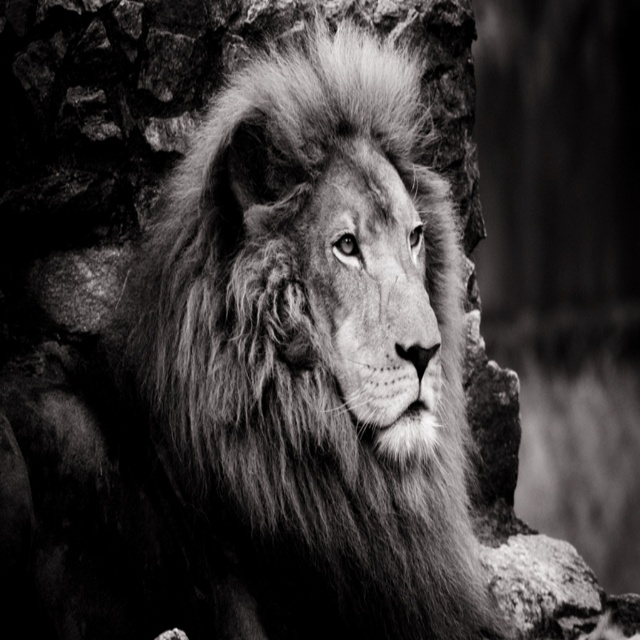Lion: (2, 5, 518, 639)
